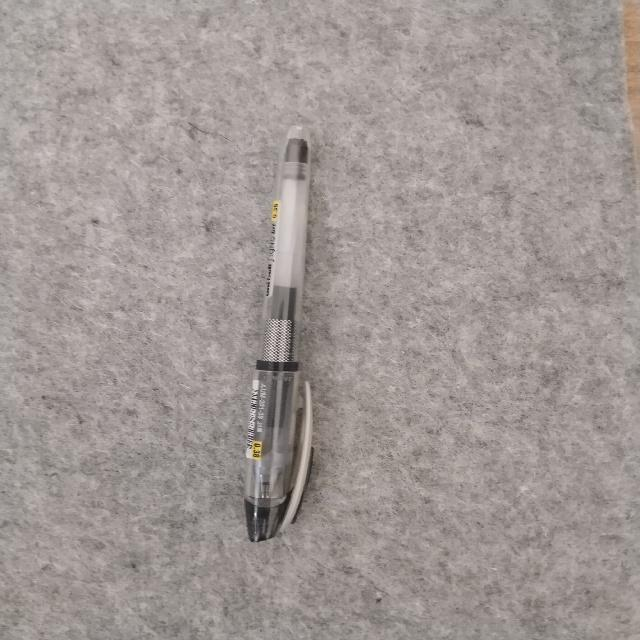pen: (245, 125, 310, 540)
